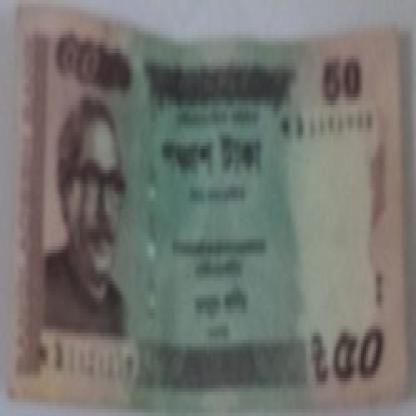Fifty taka: (330, 316, 386, 388), (53, 35, 98, 97)
